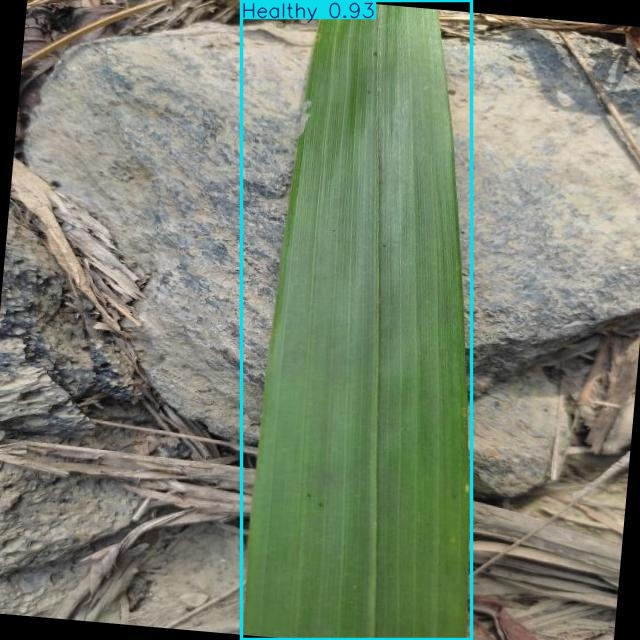Healthy: (241, 0, 471, 640)
